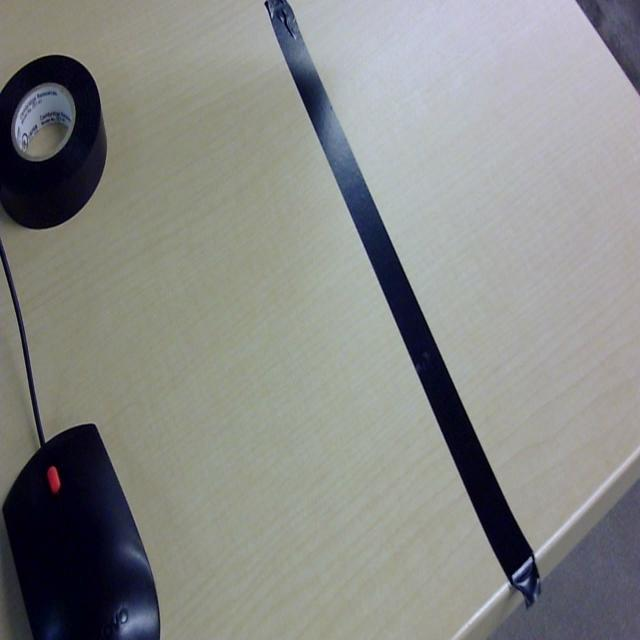tape: (265, 0, 546, 613)
